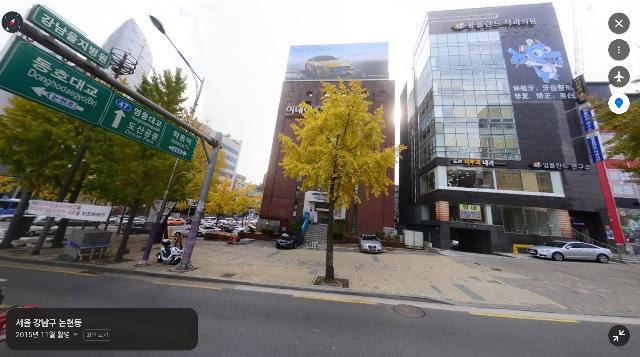ginkgo: (276, 75, 408, 284), (169, 137, 223, 232), (199, 171, 236, 228), (231, 176, 261, 228)
other: (0, 90, 125, 251), (583, 95, 640, 234)
